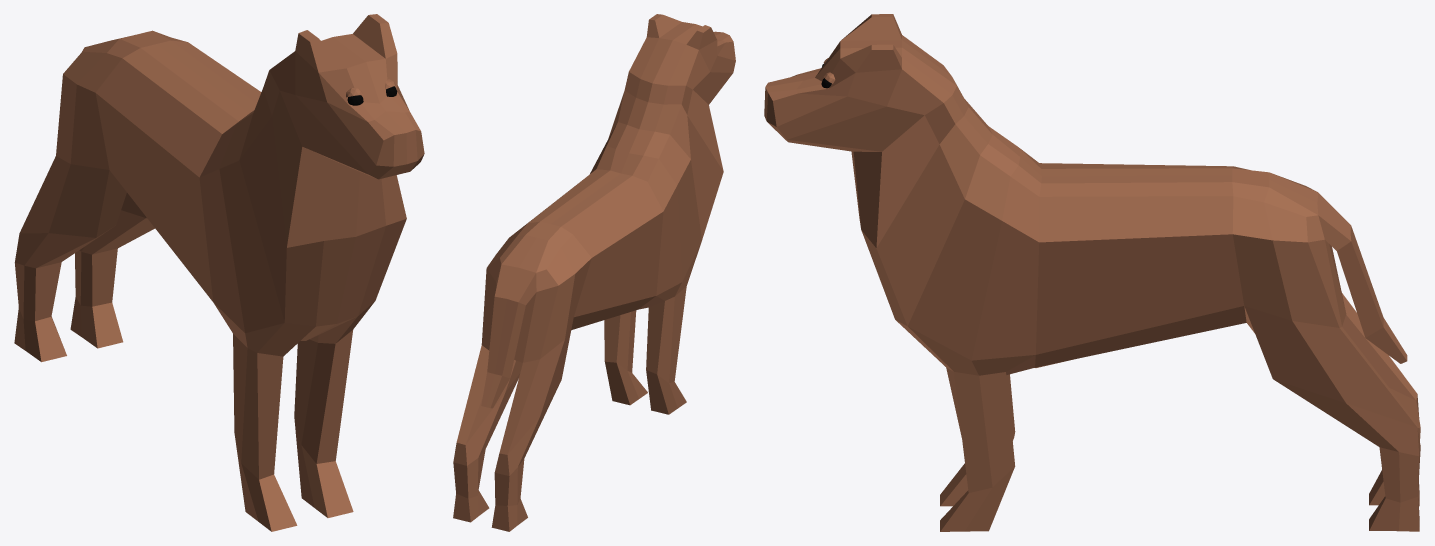
The model's file is Dog_Part3.1.fbx.
The picture shows the model from 3 angles, left to right: view 1: azimuth 30°, elevation 25°; view 2: azimuth 150°, elevation 25°; view 3: azimuth 270°, elevation 25°; orthographic projection. The views are drawn at different scales.
Visible parts, largest first — view 1: dog_part3_head; view 2: dog_part3_head; view 3: dog_part3_head.
Part boxes in pixels (bbox=[...]): dog_part3_head: bbox=[14, 14, 424, 531]; dog_part3_head: bbox=[453, 14, 735, 531]; dog_part3_head: bbox=[764, 14, 1420, 531].
Size of the model in its own units: 73.81 by 304 by 375.
